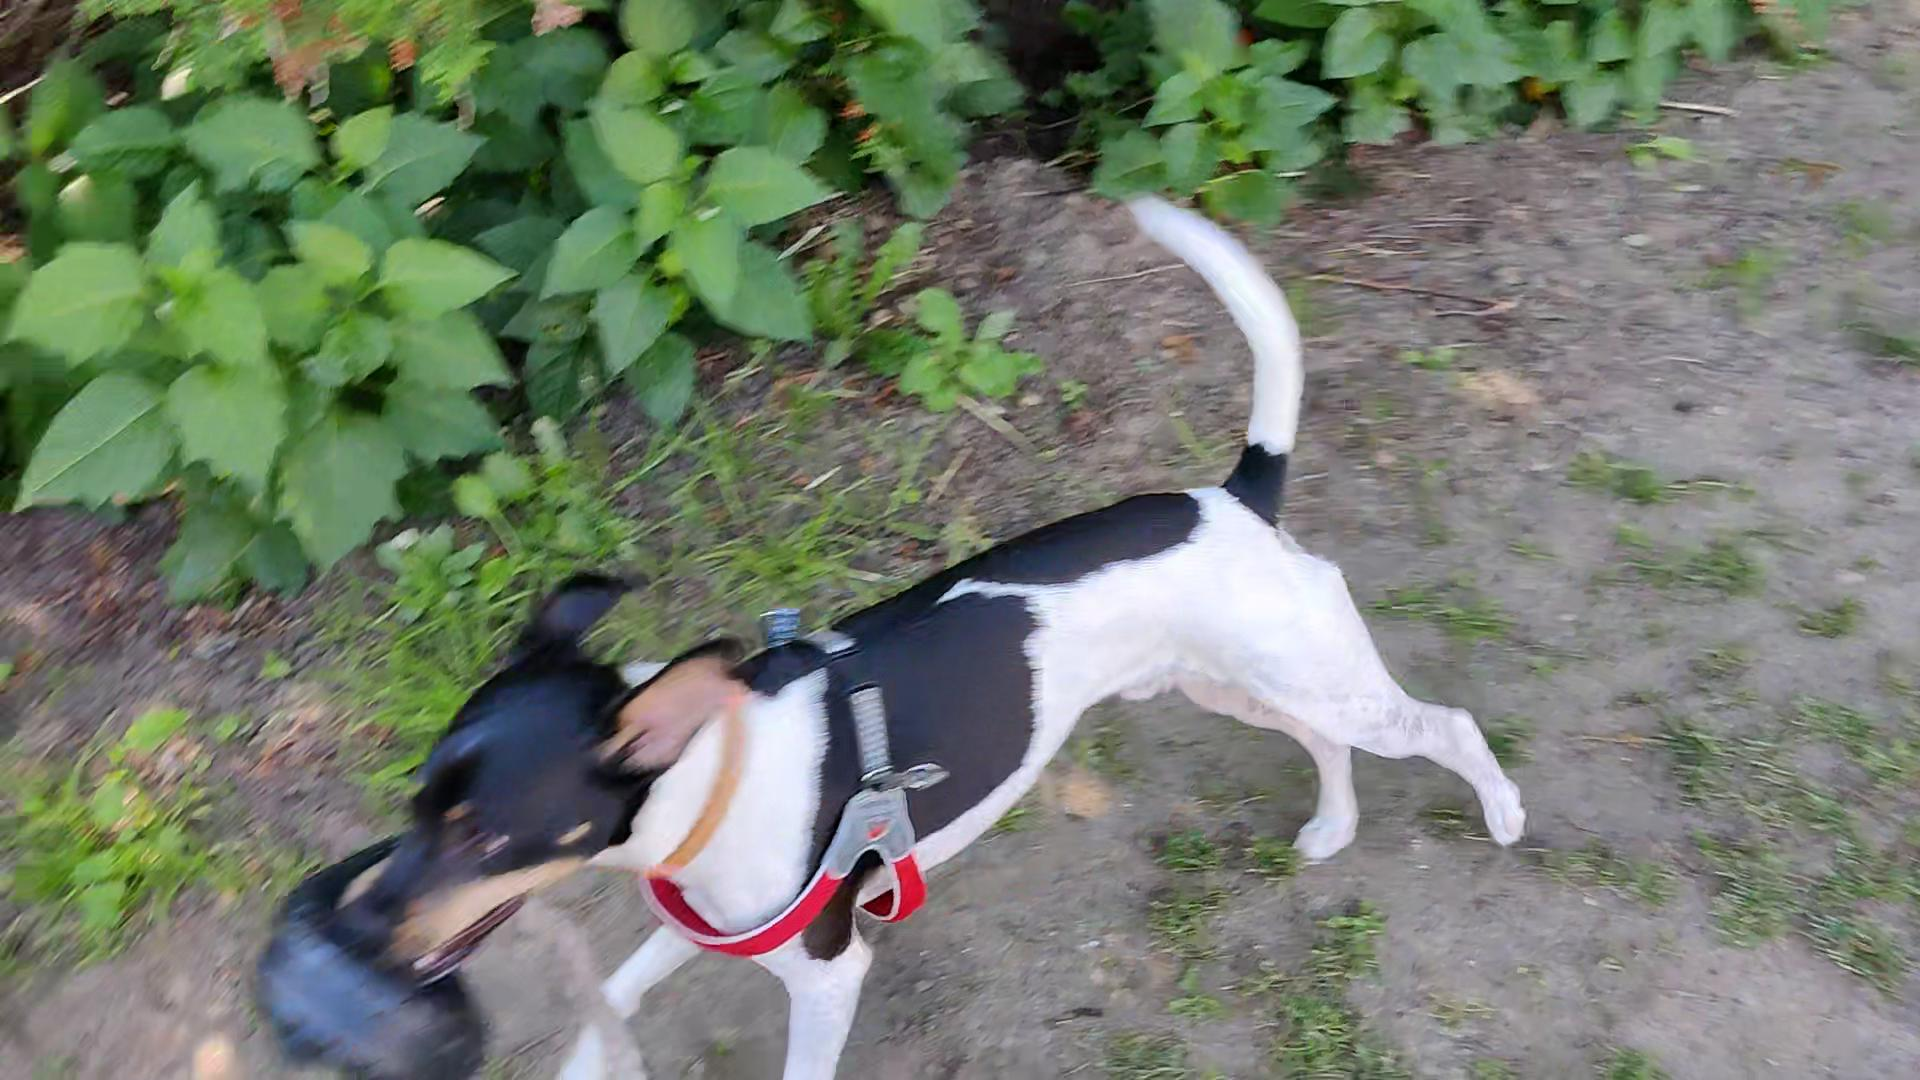Dog: (319, 167, 1545, 1079)
